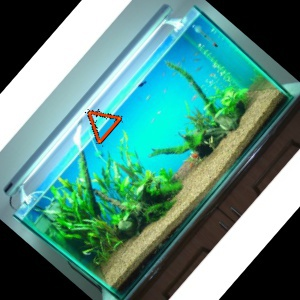triangle: (84, 107, 123, 147)
